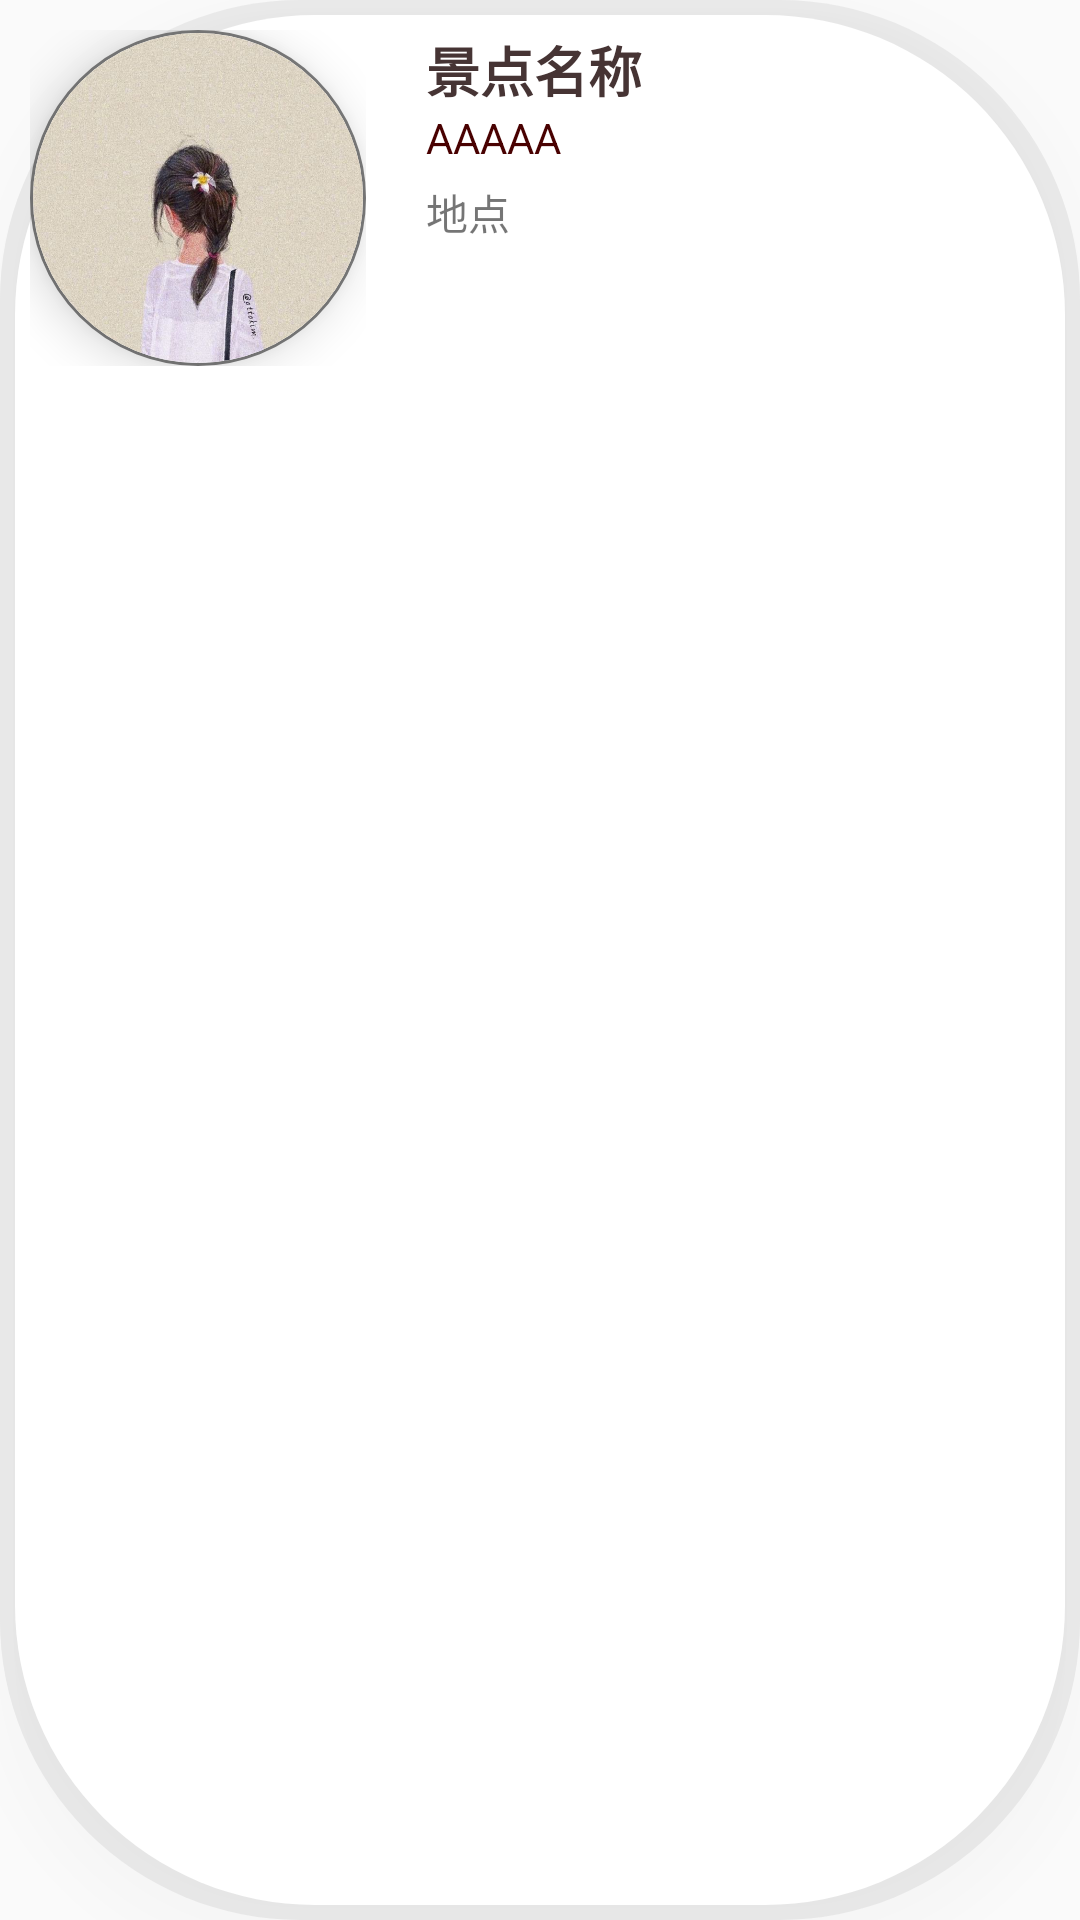

Screen size 1080px x 1920px. Icon name, then its box in pixels as (x1, y1, x2, y2):
head: (33, 33, 363, 363)
